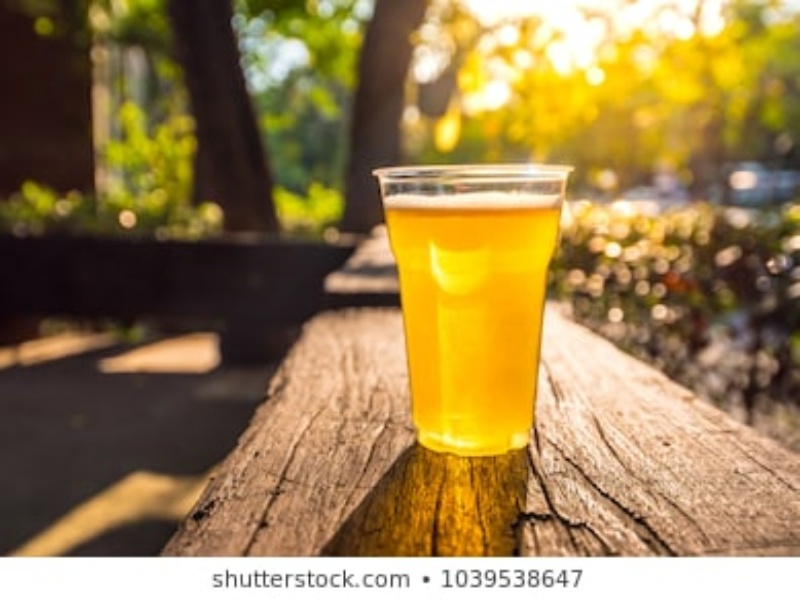plastic-cup: (370, 157, 574, 453)
